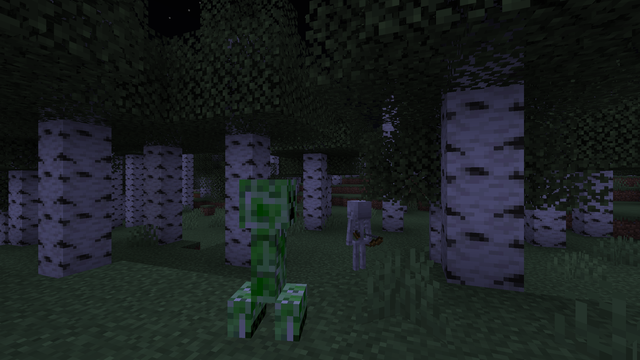creepers: (230, 171, 305, 347)
squelettes: (346, 200, 370, 271)
